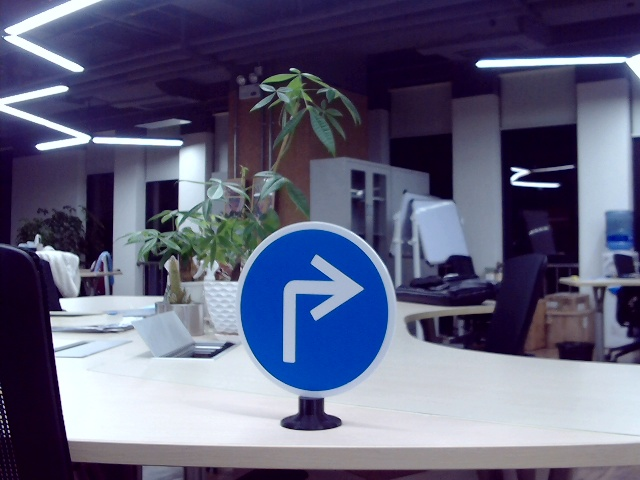turn_right: (274, 246, 364, 363)
